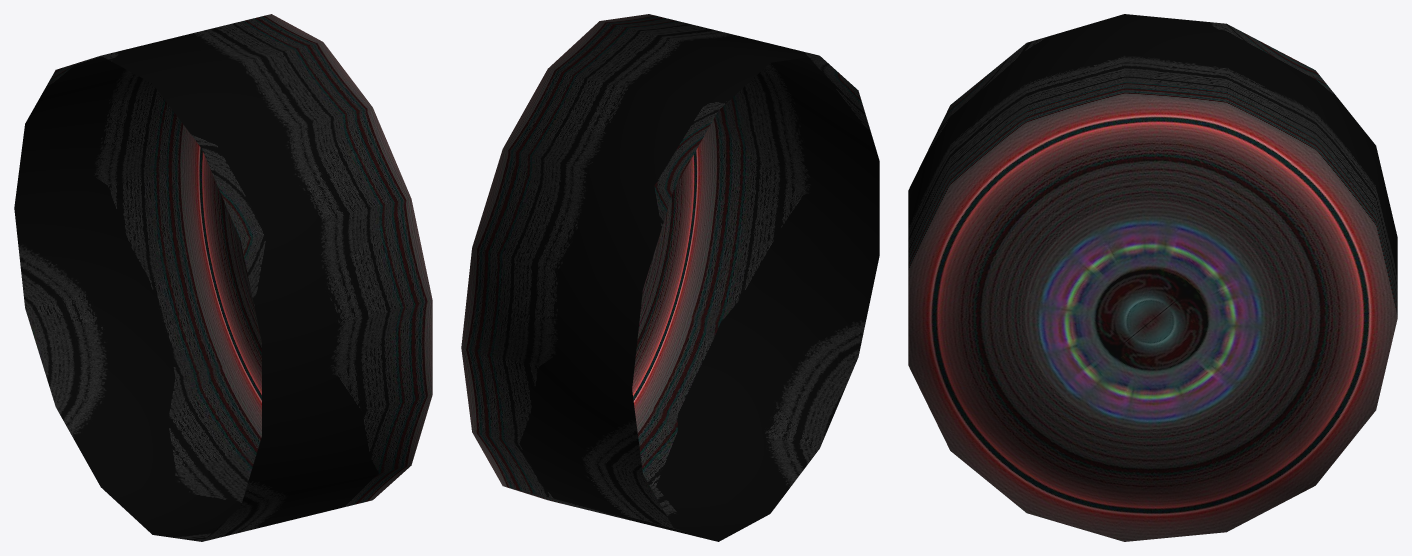
The model's file is smokemonster_staticeye.fbx.
3 renders of one model, left to right at view 1: azimuth 30°, elevation 25°; view 2: azimuth 150°, elevation 25°; view 3: azimuth 270°, elevation 25°, orthographic.
Parts seen in each view (by area): view 1: Circle_001; view 2: Circle_001; view 3: Circle_001, Circle_003.
Boxes of the visible parts, x1,y1,x2,y2 form: Circle_001: (14,14,432,541); Circle_001: (461,14,879,541); Circle_001: (908,14,1397,541); Circle_003: (1029,207,1273,430).
Size of the model in its own units: 0.8997 by 2.27 by 2.26.
Materials: 1 (1 with a texture image).
